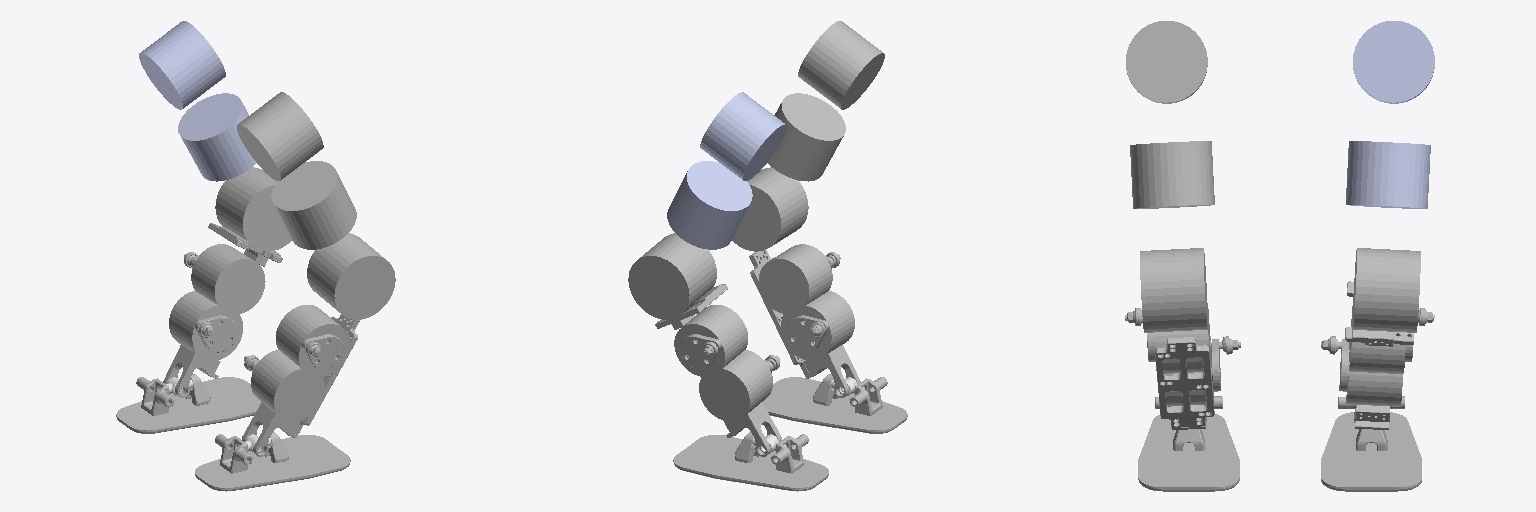
URDF robot description (hi_12dof_250108_4):
<?xml version="1.0" encoding="utf-8"?>
<!-- This URDF was automatically created by SolidWorks to URDF Exporter! Originally created by [author] ([email redacted]) 
     Commit Version: 1.6.0-4-g7f85cfe  Build Version: 1.6.7995.38578
     For more information, please see http://wiki.ros.org/sw_urdf_exporter -->
<robot name="hi_12dof_250108_4">
  <mujoco>
		<compiler meshdir="../meshes/" balanceinertia="true" discardvisual="false" />
	</mujoco>
  <link name="base_link">
    <inertial>
      <origin xyz="-0.00019303 0.00036959 0.01534814" rpy="0 0 0" />
      <mass value="6.73314994" />
      <inertia ixx="0.16409143" ixy="2.467E-05" ixz="0.00018798" iyy="0.08503186" iyz="4.154E-05" izz="0.08435556" />
    </inertial>
    <visual>
      <origin xyz="0 0 0" rpy="0 0 0" />
      <geometry>
        <mesh filename="../meshes/base_link.STL" />
      </geometry>
      <material name="">
        <color rgba="0.792156862745098 0.819607843137255 0.933333333333333 1" />
      </material>
    </visual>
    <collision>
      <origin xyz="0 0 0" rpy="0 0 0" />
      <geometry>
        <mesh filename="../meshes/base_link.STL" />
      </geometry>
    </collision>
  </link>
<!-- right leg -->  
  <link name="r_hip_pitch_link">
    <inertial>
      <origin xyz="-0.00065082 -0.04000352 0" rpy="0 0 0" />
      <mass value="0.68046017" />
      <inertia ixx="0.00047559" ixy="-7.1E-07" ixz="0" iyy="0.00045295" iyz="0" izz="0.00048659" />
    </inertial>
    <visual>
      <origin xyz="0 0 0" rpy="0 0 0" />
      <geometry>
        <mesh filename="../meshes/r_hip_pitch_link.STL" />
      </geometry>
      <material name="">
        <color rgba="0.752941176470588 0.752941176470588 0.752941176470588 1" />
      </material>
    </visual>
    <collision>
      <origin xyz="0 0 0" rpy="0 0 0" />
      <geometry>
        <box size="0.0001 0.0001 0.0001" />
        <!-- <mesh filename="../meshes/r_hip_pitch_link.STL" /> -->
      </geometry>
    </collision>
  </link>
  <joint name="r_hip_pitch_joint" type="revolute">
    <origin xyz="0 -0.0575 -0.141" rpy="0 -0.45605417 0" />
    <parent link="base_link" />
    <child link="r_hip_pitch_link" />
    <axis xyz="0 1 0" />
    <limit lower="-1.0" upper="1.8" effort="40"    velocity="4.0" />
  </joint>
  <link name="r_hip_roll_link">
    <inertial>
      <origin xyz="-0.02820649 -3.55E-06 -0.07839226" rpy="0 0 0" />
      <mass value="0.80172262" />
      <inertia ixx="0.00145361" ixy="-2E-08" ixz="-3.101E-05" iyy="0.00168848" iyz="-3E-08" izz="0.00071355" />
    </inertial>
    <visual>
      <origin xyz="0 0 0" rpy="0 0 0" />
      <geometry>
        <mesh filename="../meshes/r_hip_roll_link.STL" />
      </geometry>
      <material name="">
        <color rgba="0.752941176470588 0.752941176470588 0.752941176470588 1" />
      </material>
    </visual>
    <collision>
      <origin xyz="0 0 0" rpy="0 0 0" />
      <geometry>
        <box size="0.0001 0.0001 0.0001" />
        <!-- <mesh filename="../meshes/r_hip_roll_link.STL" /> -->
      </geometry>
    </collision>
  </link>
  <joint name="r_hip_roll_joint" type="revolute">
    <origin xyz="0.0287500000000003 -0.0419959226882039 0" rpy="0.05011016 0 0" />
    <parent link="r_hip_pitch_link" />
    <child link="r_hip_roll_link" />
    <axis xyz="1 0 0" />
    <limit lower="-0.5" upper="0.12" effort="40"    velocity="4.0" />
  </joint>
  <link name="r_thigh_link">
    <inertial>
      <origin xyz="0 0.00195775 -0.03843539" rpy="0 0 0" />
      <mass value="0.21648094" />
      <inertia ixx="0.00040135" ixy="0" ixz="0" iyy="0.0002443" iyz="1.748E-05" izz="0.00025072" />
    </inertial>
    <visual>
      <origin xyz="0 0 0" rpy="0 0 0" />
      <geometry>
        <box size="0.0001 0.0001 0.0001" />
        <!-- <mesh filename="../meshes/r_thigh_link.STL" /> -->
      </geometry>
      <material name="">
        <color rgba="0.752941176470588 0.752941176470588 0.752941176470588 1" />
      </material>
    </visual>
    <collision>
      <origin xyz="0 0 0" rpy="0 0 0" />
      <geometry>
        <box size="0.0001 0.0001 0.0001" />
        <!-- <mesh filename="../meshes/r_thigh_link.STL" /> -->
      </geometry>
    </collision>
  </link>
  <joint name="r_thigh_joint" type="revolute">
    <origin xyz="-0.02875 0 -0.127" rpy="0 0 -0.02456662" />
    <parent link="r_hip_roll_link" />
    <child link="r_thigh_link" />
    <axis xyz="0 0 1" />
    <limit lower="-0.6" upper="0.3" effort="40" velocity="4.0" />
  </joint>
  <link name="r_calf_link">
    <inertial>
      <origin xyz="0.00112598 -0.00049951 -0.05928644" rpy="0 0 0" />
      <mass value="1.48329574" />
      <inertia ixx="0.00567644" ixy="-8E-07" ixz="9.408E-05" iyy="0.00570914" iyz="9.066E-05" izz="0.00082739" />
    </inertial>
    <visual>
      <origin xyz="0 0 0" rpy="0 0 0" />
      <geometry>
        <mesh filename="../meshes/r_calf_link.STL" />
      </geometry>
      <material name="">
        <color rgba="0.752941176470588 0.752941176470588 0.752941176470588 1" />
      </material>
    </visual>
    <collision>
      <origin xyz="0 0 0" rpy="0 0 0" />
      <geometry>
        <box size="0.0001 0.0001 0.0001" />
        <!-- <mesh filename="../meshes/r_calf_link.STL" /> -->
      </geometry>
    </collision>
  </link>
  <joint name="r_calf_joint" type="revolute">
    <origin xyz="0 0 -0.073" rpy="0 1.01092266 0" />
    <parent link="r_thigh_link" />
    <child link="r_calf_link" />
    <axis xyz="0 1 0" />
    <limit lower="-1" upper="1.1" effort="40"    velocity="4.0" />
  </joint>
  <link name="r_ankle_pitch_link">
    <inertial>
      <origin xyz="0 0 0" rpy="0 0 0" />
      <mass value="0.0089231" />
      <inertia ixx="2.3E-07" ixy="0" ixz="0" iyy="1.02E-06" iyz="0" izz="9.9E-07" />
    </inertial>
    <visual>
      <origin xyz="0 0 0" rpy="0 0 0" />
      <geometry>
        <mesh filename="../meshes/r_ankle_pitch_link.STL" />
      </geometry>
      <material name="">
        <color rgba="0.898039215686275 0.917647058823529 0.929411764705882 1" />
      </material>
    </visual>
    <collision>
      <origin xyz="0 0 0" rpy="0 0 0" />
      <geometry>
        <box size="0.0001 0.0001 0.0001" />
        <!-- <mesh filename="../meshes/r_ankle_pitch_link.STL" /> -->
      </geometry>
    </collision>
  </link>
  <joint name="r_ankle_pitch_joint" type="revolute">
    <origin xyz="0 0 -0.2" rpy="0 -0.55548412 0" />
    <parent link="r_calf_link" />
    <child link="r_ankle_pitch_link" />
    <axis xyz="0 1 0" />
    <limit lower="-0.4" upper="1.15" effort="40"    velocity="4.0" />
  </joint>
  <link name="r_ankle_roll_link">
    <inertial>
      <origin xyz="0.01853925 1.46E-06 -0.022799" rpy="0 0 0" />
      <mass value="0.34845776" />
      <inertia ixx="0.00019585" ixy="-2E-08" ixz="1.687E-05" iyy="0.00063628" iyz="0" izz="0.00080057" />
    </inertial>
    <visual>
      <origin xyz="0 0 0" rpy="0 0 0" />
      <geometry>
        <mesh filename="../meshes/r_ankle_roll_link.STL" />
      </geometry>
      <material name="">
        <color rgba="0.752941176470588 0.752941176470588 0.752941176470588 1" />
      </material>
    </visual>
    <collision>
      <origin xyz="0 0 0" rpy="0 0 0" />
      <geometry>
        <!-- <box size="0.0001 0.0001 0.0001" /> -->
        <mesh filename="../meshes/r_ankle_roll_link.STL" />
      </geometry>
    </collision>
  </link>
  <joint name="r_ankle_roll_joint" type="revolute">
    <origin xyz="0 0 0" rpy="-0.05580456 0 0" />
    <parent link="r_ankle_pitch_link" />
    <child link="r_ankle_roll_link" />
    <axis xyz="1 0 0" />
    <limit lower="-0.15" upper="0.15" effort="40"    velocity="4.0" />
  </joint>

<!-- left leg -->  
  <link name="l_hip_pitch_link">
    <inertial>
      <origin xyz="-0.00065082 0.04000698 0" rpy="0 0 0" />
      <mass value="0.68046017" />
      <inertia ixx="0.0004756" ixy="7.1E-07" ixz="0" iyy="0.00045295" iyz="0" izz="0.0004866" />
    </inertial>
    <visual>
      <origin xyz="0 0 0" rpy="0 0 0" />
      <geometry>
        <mesh filename="../meshes/l_hip_pitch_link.STL" />
      </geometry>
      <material name="">
        <color rgba="0.792156862745098 0.819607843137255 0.933333333333333 1" />
      </material>
    </visual>
    <collision>
      <origin xyz="0 0 0" rpy="0 0 0" />
      <geometry>
        <box size="0.0001 0.0001 0.0001" />
        <!-- <mesh filename="../meshes/l_hip_pitch_link.STL" /> -->
      </geometry>
    </collision>
  </link>
  <joint name="l_hip_pitch_joint" type="revolute">
    <origin xyz="0 0.0575 -0.141" rpy="0 -0.45605328 0" />
    <parent link="base_link" />
    <child link="l_hip_pitch_link" />
    <axis xyz="0 1 0" />
    <limit lower="-1" upper="1.8" effort="40"    velocity="4.0" />
  </joint>
  <link name="l_hip_roll_link">
    <inertial>
      <origin xyz="-0.02820649 0 -0.07839226" rpy="0 0 0" />
      <mass value="0.80172262" />
      <inertia ixx="0.00145361" ixy="0" ixz="-3.1E-05" iyy="0.00168848" iyz="0" izz="0.00071355" />
    </inertial>
    <visual>
      <origin xyz="0 0 0" rpy="0 0 0" />
      <geometry>
        <mesh filename="../meshes/l_hip_roll_link.STL" />
      </geometry>
      <material name="">
        <color rgba="0.792156862745098 0.819607843137255 0.933333333333333 1" />
      </material>
    </visual>
    <collision>
      <origin xyz="0 0 0" rpy="0 0 0" />
      <geometry>
        <box size="0.0001 0.0001 0.0001" />
        <!-- <mesh filename="../meshes/l_hip_roll_link.STL" /> -->
      </geometry>
    </collision>
  </link>
  <joint name="l_hip_roll_joint" type="revolute">
    <origin xyz="0.02875 0.042 0" rpy="-0.05012064 0 0" />
    <parent link="l_hip_pitch_link" />
    <child link="l_hip_roll_link" />
    <axis xyz="1 0 0" />
    <limit lower="-0.12" upper="0.5" effort="40"    velocity="4.0" />
  </joint>
  <link name="l_thigh_link">
    <inertial>
      <origin xyz="0 -0.00195775 -0.03843539" rpy="0 0 0" />
      <mass value="0.21648094" />
      <inertia ixx="0.00040135" ixy="0" ixz="0" iyy="0.0002443" iyz="-1.748E-05" izz="0.00025072" />
    </inertial>
    <visual>
      <origin xyz="0 0 0" rpy="0 0 0" />
      <geometry>
        <box size="0.0001 0.0001 0.0001" />
        <!-- <mesh filename="../meshes/l_thigh_link.STL" /> -->
      </geometry>
      <material name="">
        <color rgba="0.752941176470588 0.752941176470588 0.752941176470588 1" />
      </material>
    </visual>
    <collision>
      <origin xyz="0 0 0" rpy="0 0 0" />
      <geometry>
        <box size="0.0001 0.0001 0.0001" />
        <!-- <mesh filename="../meshes/l_thigh_link.STL" /> -->
      </geometry>
    </collision>
  </link>
  <joint name="l_thigh_joint" type="revolute">
    <origin xyz="-0.02875 0 -0.127" rpy="0 0 0.0245717" />
    <parent link="l_hip_roll_link" />
    <child link="l_thigh_link" />
    <axis xyz="0 0 1" />
    <limit lower="-0.3" upper="0.6" effort="40"    velocity="4.0" />
  </joint>
  <link name="l_calf_link">
    <inertial>
      <origin xyz="0.00111832 0.00049709 -0.0596686" rpy="0 0 0" />
      <mass value="1.48757619" />
      <inertia ixx="0.00575491" ixy="8.3E-07" ixz="9.319E-05" iyy="0.00578785" iyz="-9.095E-05" izz="0.00082773" />
    </inertial>
    <visual>
      <origin xyz="0 0 0" rpy="0 0 0" />
      <geometry>
        <mesh filename="../meshes/l_calf_link.STL" />
      </geometry>
      <material name="">
        <color rgba="0.752941176470588 0.752941176470588 0.752941176470588 1" />
      </material>
    </visual>
    <collision>
      <origin xyz="0 0 0" rpy="0 0 0" />
      <geometry>
        <box size="0.0001 0.0001 0.0001" />
        <!-- <mesh filename="../meshes/l_calf_link.STL" /> -->
      </geometry>
    </collision>
  </link>
  <joint name="l_calf_joint" type="revolute">
    <origin xyz="0 0 -0.073" rpy="0 1.0109203 0" />
    <parent link="l_thigh_link" />
    <child link="l_calf_link" />
    <axis xyz="0 1 0" />
    <limit lower="-1.0" upper="1.1" effort="40"    velocity="4.0" />
  </joint>
  <link name="l_ankle_pitch_link">
    <inertial>
      <origin xyz="0 0 0" rpy="0 0 0" />
      <mass value="0.0089231" />
      <inertia ixx="2.3E-07" ixy="0" ixz="0" iyy="1.02E-06" iyz="0" izz="9.9E-07" />
    </inertial>
    <visual>
      <origin xyz="0 0 0" rpy="0 0 0" />
      <geometry>
        <mesh filename="../meshes/l_ankle_pitch_link.STL" />
      </geometry>
      <material name="">
        <color rgba="0.898039215686275 0.917647058823529 0.929411764705882 1" />
      </material>
    </visual>
    <collision>
      <origin xyz="0 0 0" rpy="0 0 0" />
      <geometry>
        <box size="0.0001 0.0001 0.0001" />
        <!-- <mesh filename="../meshes/l_ankle_pitch_link.STL" /> -->
      </geometry>
    </collision>
  </link>
  <joint name="l_ankle_pitch_joint" type="revolute">
    <origin xyz="0 0 -0.199999997760877" rpy="0 -0.55548291 0" />
    <parent link="l_calf_link" />
    <child link="l_ankle_pitch_link" />
    <axis xyz="0 1 0" />
    <limit lower="-0.4" upper="1.15" effort="40"    velocity="4.0" />
  </joint>
  <link name="l_ankle_roll_link">
    <inertial>
      <origin xyz="0.01853925 1.46E-06 -0.022799" rpy="0 0 0" />
      <mass value="0.34845776" />
      <inertia ixx="0.00019585" ixy="-2E-08" ixz="1.687E-05" iyy="0.00063628" iyz="0" izz="0.00080057" />
    </inertial>
    <visual>
      <origin xyz="0 0 0" rpy="0 0 0" />
      <geometry>
        <mesh filename="../meshes/l_ankle_roll_link.STL" />
      </geometry>
      <material name="">
        <color rgba="0.752941176470588 0.752941176470588 0.752941176470588 1" />
      </material>
    </visual>
    <collision>
      <origin xyz="0 0 0" rpy="0 0 0" />
      <geometry>
        <mesh filename="../meshes/l_ankle_roll_link.STL" />
      </geometry>
    </collision>
  </link>
  <joint name="l_ankle_roll_joint" type="revolute">
    <origin xyz="0 0 0" rpy="0.05581621 0 0" />
    <parent link="l_ankle_pitch_link" />
    <child link="l_ankle_roll_link" />
    <axis xyz="1 0 0" />
    <limit lower="-0.15" upper="0.15" effort="40"    velocity="4.0" />
  </joint>
</robot>

--- Facts derived from the render (not from the file) ---
Views: 3 orthographic renders of the robot side by side, from view 1: azimuth 30°, elevation 25°; view 2: azimuth 150°, elevation 25°; view 3: azimuth 270°, elevation 25°.
Model hi_12dof_250108_4 with 13 links and 12 joints (12 revolute), rooted at base_link, posed all joints at 0.
Visible links, largest first — view 1: r_calf_link, l_calf_link, r_ankle_roll_link, l_ankle_roll_link, r_hip_roll_link, r_hip_pitch_link, l_hip_pitch_link, l_hip_roll_link; view 2: l_calf_link, r_calf_link, l_ankle_roll_link, r_ankle_roll_link, l_hip_roll_link, r_hip_pitch_link, r_hip_roll_link, l_hip_pitch_link; view 3: r_calf_link, l_calf_link, l_ankle_roll_link, r_ankle_roll_link, l_hip_pitch_link, r_hip_pitch_link, l_hip_roll_link, r_hip_roll_link.
Boxes of the visible links, left/top/right/bottom form: r_calf_link: left=242, top=233, right=395, bottom=456; l_calf_link: left=163, top=167, right=291, bottom=397; r_ankle_roll_link: left=195, top=431, right=350, bottom=491; l_ankle_roll_link: left=116, top=374, right=260, bottom=433; r_hip_roll_link: left=271, top=161, right=356, bottom=249; r_hip_pitch_link: left=237, top=92, right=323, bottom=180; l_hip_pitch_link: left=139, top=21, right=225, bottom=109; l_hip_roll_link: left=178, top=93, right=255, bottom=181; l_calf_link: left=628, top=233, right=781, bottom=456; r_calf_link: left=732, top=167, right=860, bottom=397; l_ankle_roll_link: left=673, top=431, right=828, bottom=491; r_ankle_roll_link: left=763, top=374, right=907, bottom=433; l_hip_roll_link: left=667, top=161, right=752, bottom=249; r_hip_pitch_link: left=798, top=21, right=884, bottom=109; r_hip_roll_link: left=768, top=93, right=845, bottom=181; l_hip_pitch_link: left=700, top=92, right=786, bottom=180; r_calf_link: left=1125, top=248, right=1240, bottom=429; l_calf_link: left=1321, top=248, right=1434, bottom=429; l_ankle_roll_link: left=1321, top=396, right=1421, bottom=491; r_ankle_roll_link: left=1138, top=396, right=1239, bottom=491; l_hip_pitch_link: left=1353, top=21, right=1434, bottom=103; r_hip_pitch_link: left=1126, top=21, right=1207, bottom=103; l_hip_roll_link: left=1346, top=141, right=1430, bottom=208; r_hip_roll_link: left=1130, top=141, right=1214, bottom=208.
Size in the robot's own frame: 0.203 by 0.2716 by 0.4245 metres.
10 mesh visuals loaded from 11 distinct referenced files (10 binary STL); not drawn: 1 (reference not matched to a file when rendering).